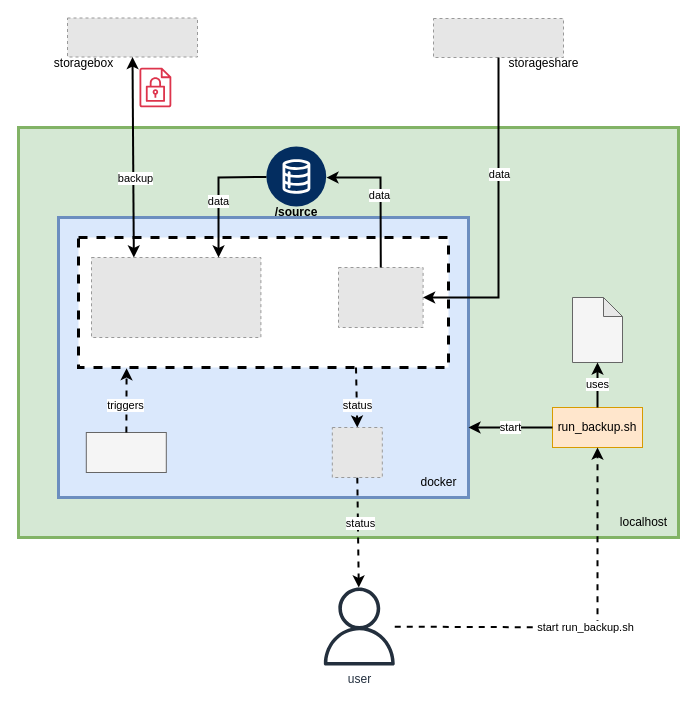
The diagram is 697 pixels wide and 703 high, and some of its shapes have lost their labels. Grey dashed boxes stand in for pictures. The box of each missing label's shape, as (x1, y1, x2, y2) in pixels:
.env: (572, 296, 622, 362)
cron job: (85, 432, 166, 472)
